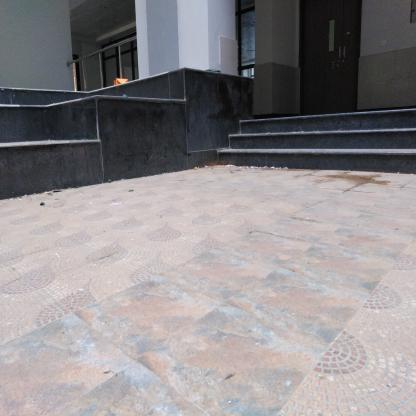stairs: (245, 117, 416, 175)
